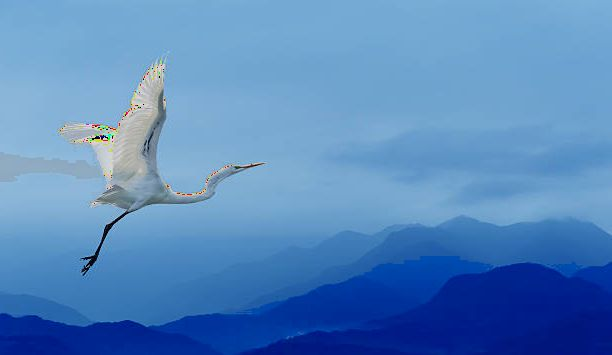Bird: (54, 45, 267, 275)
